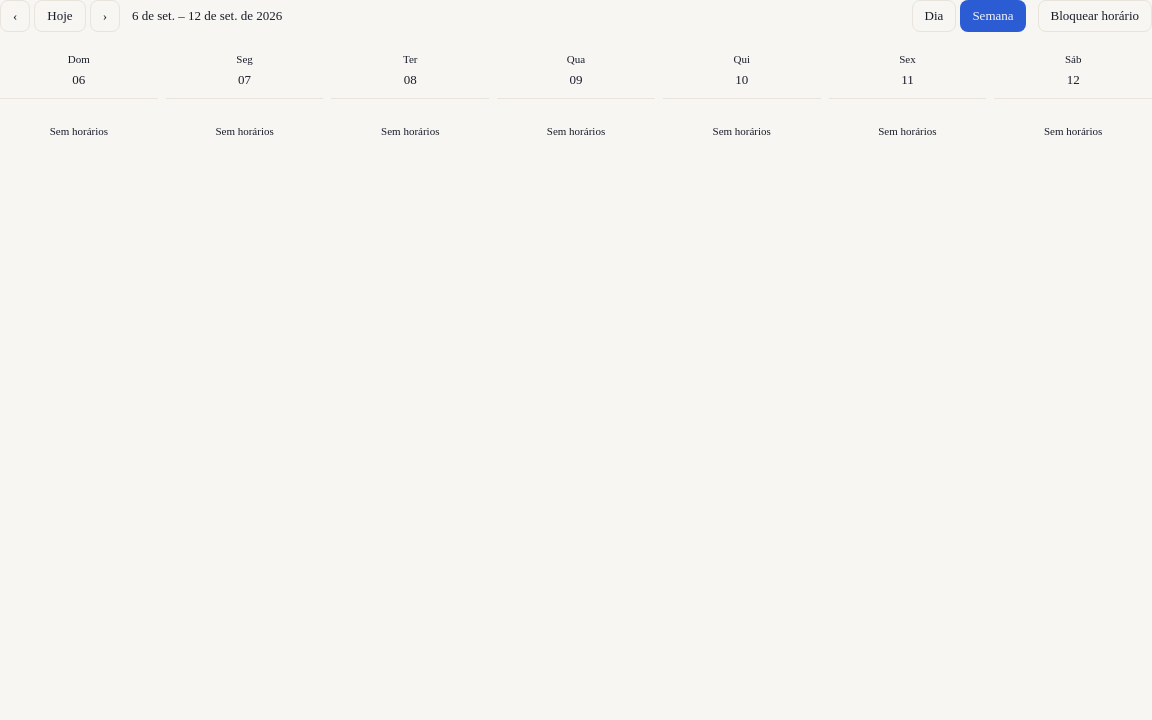
Test: AppointmentAgenda (integration) › DOCTOR "Bloquear horário" button opens BlockTimeDialog
This screenshot has width=1152, height=720.
Click the button with test id "toolbar-block-time" at coordinates (1095, 16), box 1038,0 -> 1151,32
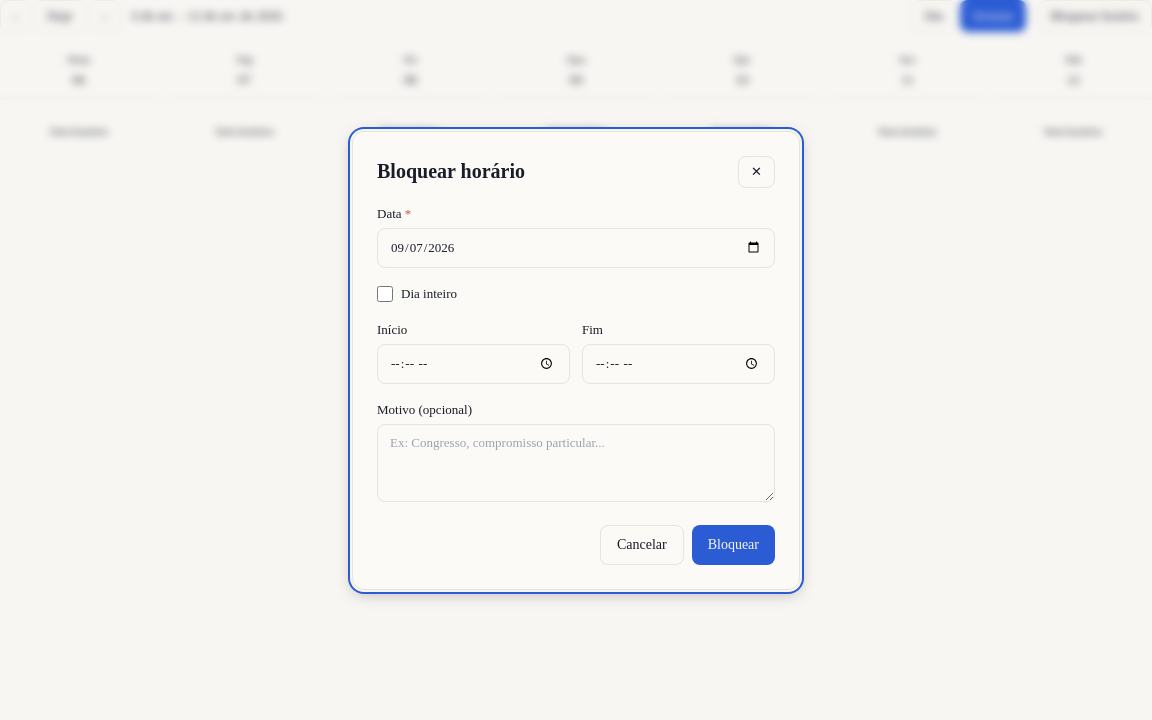
Check: the dialog with test id "block-time-dialog" is shown, box 352,130 -> 800,590
